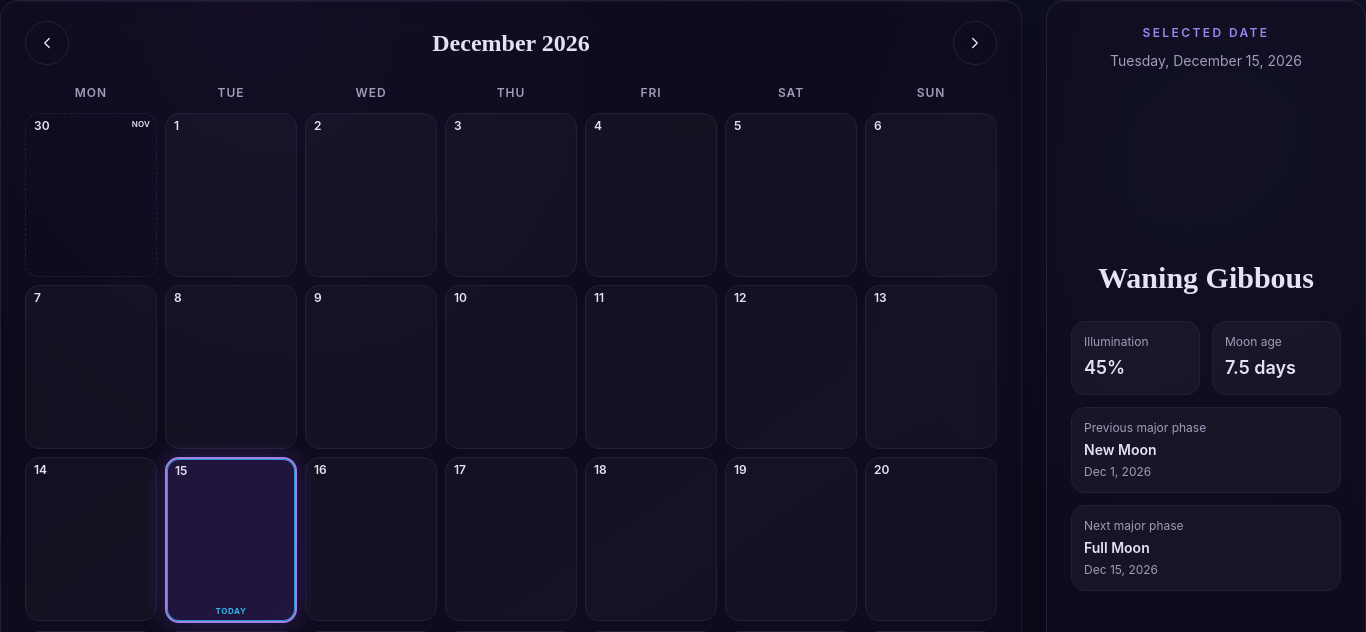
month navigation and selection › crosses year boundaries from {"year":2026,"month":12,"day":15}
Click the button named "Show next month". click: (975, 43)
box: [953,21,997,65]
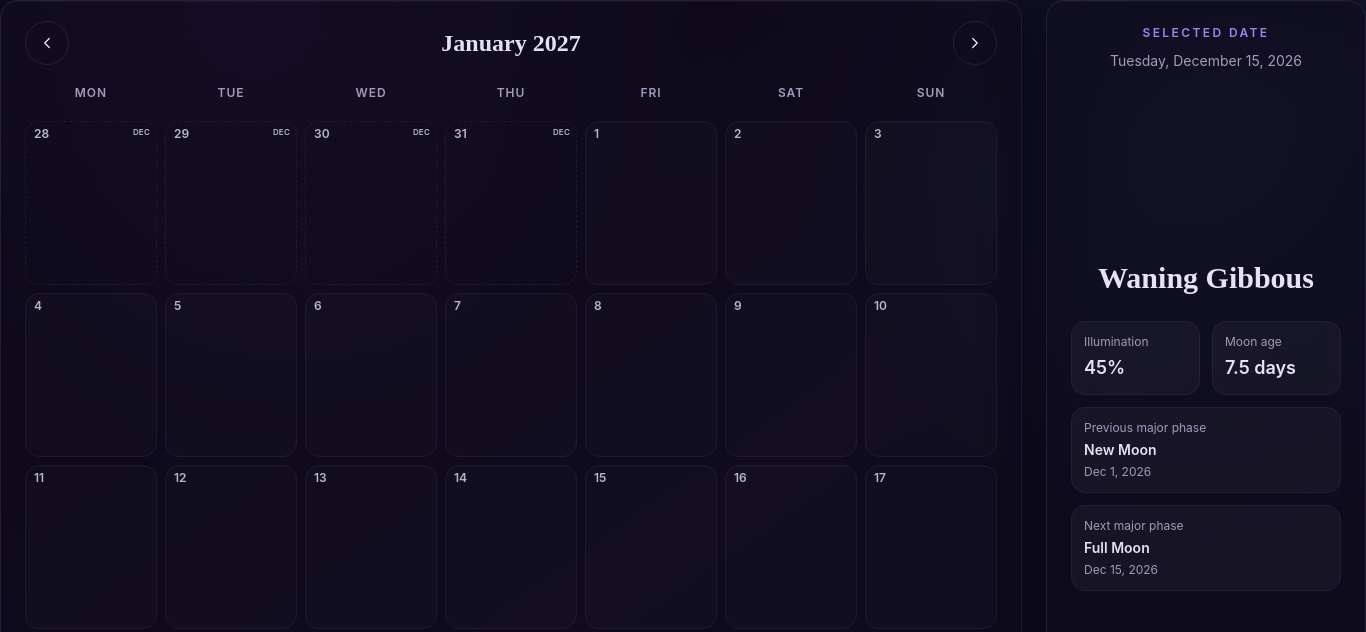
expect the heading "January 2027" is shown: met, box [441,28,581,58]
